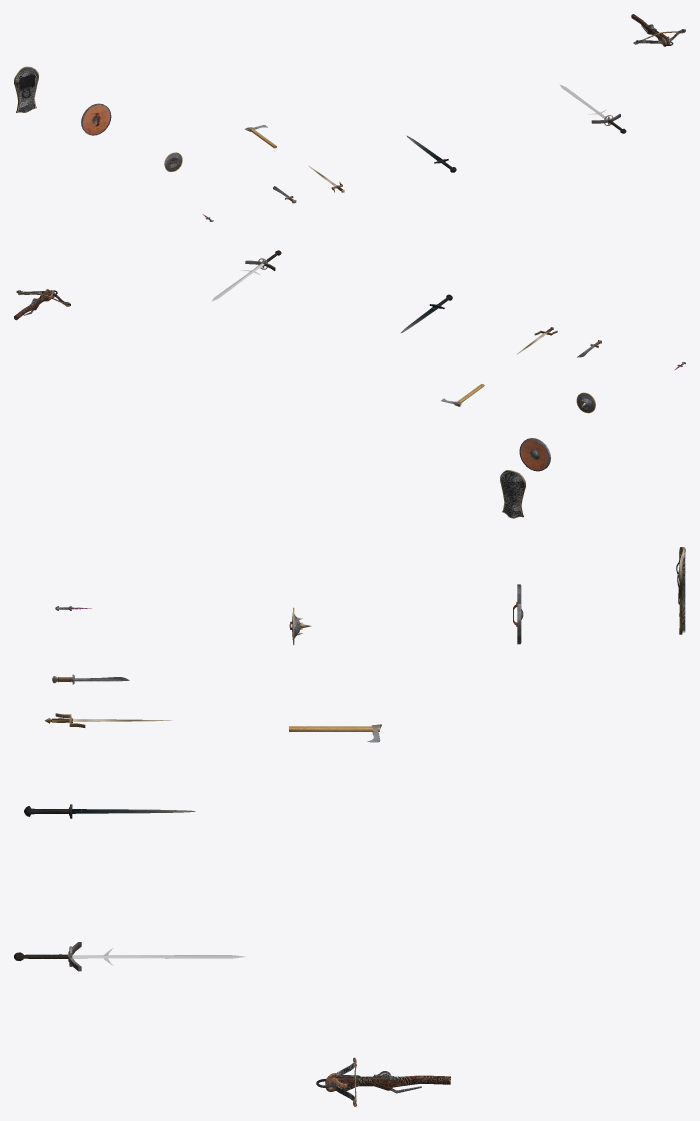
The model's file is Shilds and weapons.fbx.
3 renders of one model, top to bottom at view 1: azimuth 30°, elevation 25°; view 2: azimuth 150°, elevation 25°; view 3: azimuth 270°, elevation 25°, orthographic. The views are drawn at different scales.
Visible parts, largest first — view 1: Cube.013, Plane.004; view 2: Plane.004, Cube.013; view 3: Cube.176.
Part boxes in pixels (x1,y1,x2,y2): Cube.013: (81, 103, 111, 135); Plane.004: (15, 68, 37, 112); Plane.004: (501, 471, 524, 517); Cube.013: (519, 438, 550, 471); Cube.176: (333, 1075, 450, 1090).
Bounding box in the file's own units: 1050 × 78.74 × 591.
